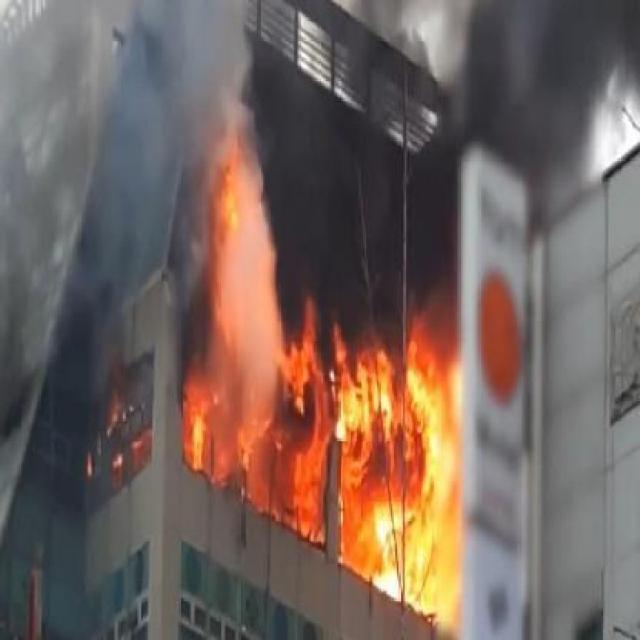Fire: (185, 272, 466, 615), (200, 143, 258, 302)
Smoke: (22, 21, 270, 403), (382, 0, 640, 248)
